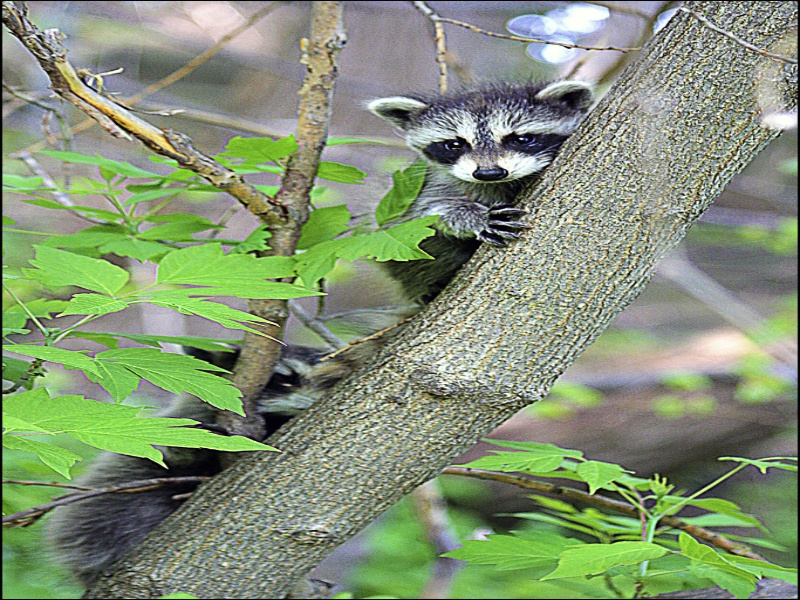raccoon: (51, 331, 347, 579), (348, 72, 604, 319)
